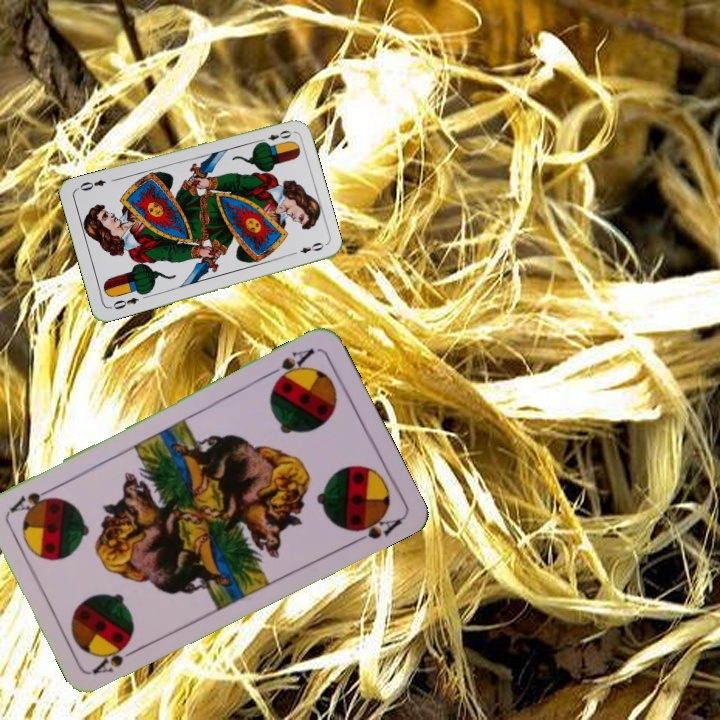EO: (255, 126, 294, 147), (109, 293, 141, 312)
SA: (263, 344, 318, 386), (89, 638, 144, 677)
